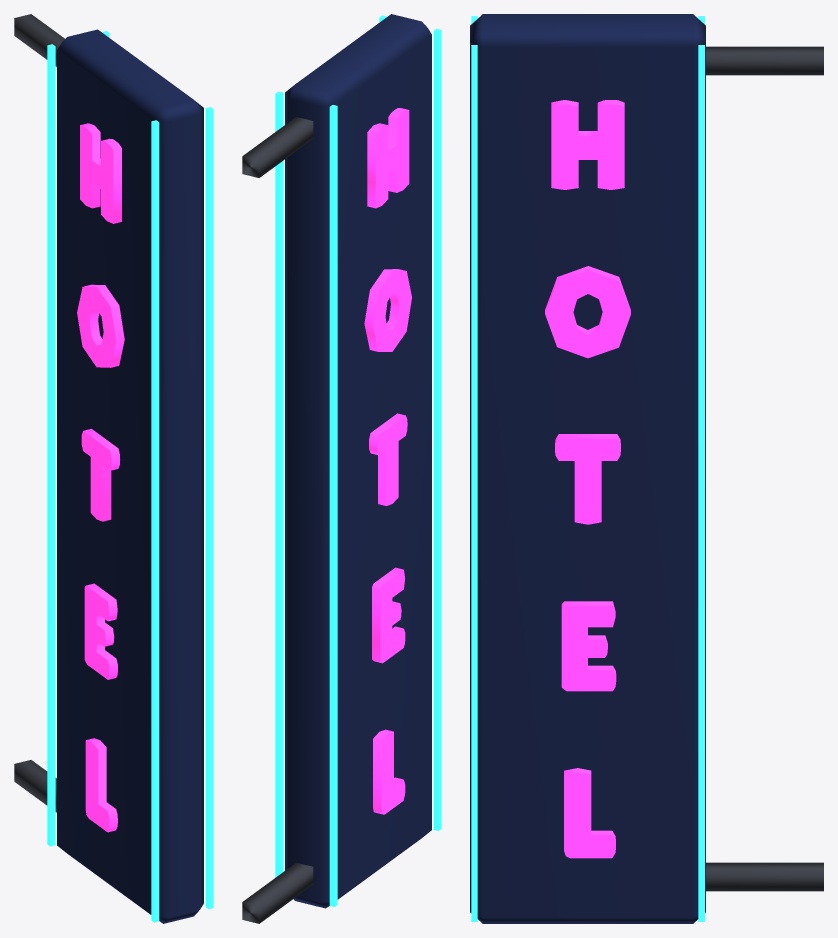
The model's file is city_neon_sign_a.glb.
The picture shows the model from 3 angles, left to right: view 1: azimuth 30°, elevation 25°; view 2: azimuth 150°, elevation 25°; view 3: azimuth 270°, elevation 25°; orthographic projection. The views are drawn at different scales.
Visible parts, largest first — view 1: NeonSignA; view 2: NeonSignA; view 3: NeonSignA.
Part boxes in pixels (x1=…): NeonSignA: x1=14, y1=14, x2=213, y2=923; NeonSignA: x1=242, y1=14, x2=441, y2=923; NeonSignA: x1=470, y1=14, x2=823, y2=923.
Bounding box in the file's own units: 0.4 × 4.6 × 1.65.
